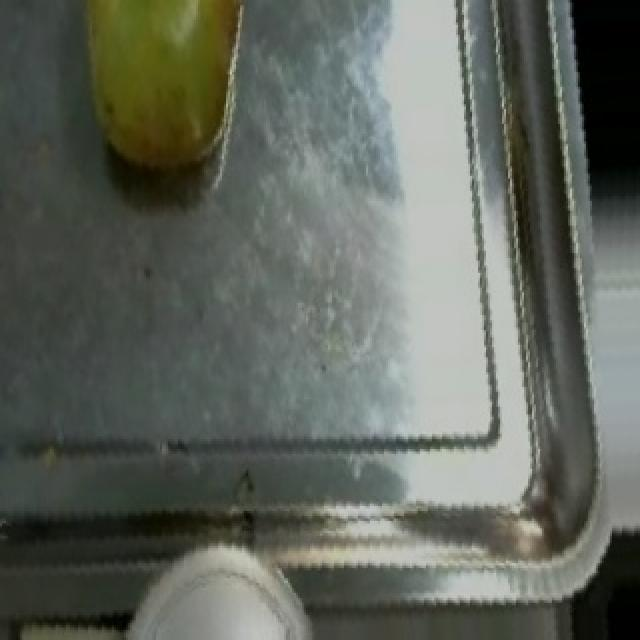fruit: (42, 0, 278, 201)
